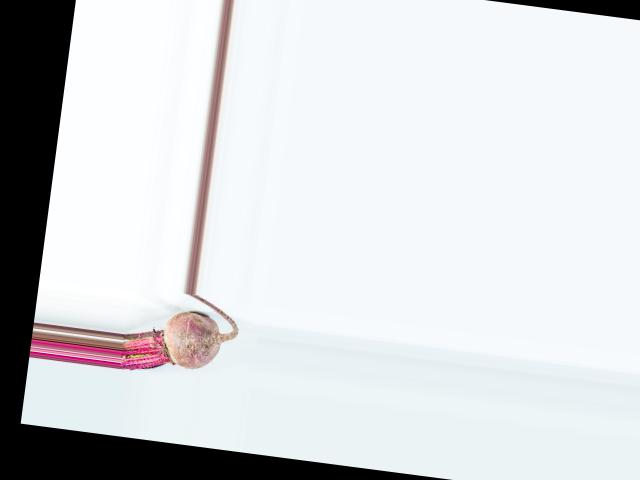beet: (118, 286, 241, 383)
